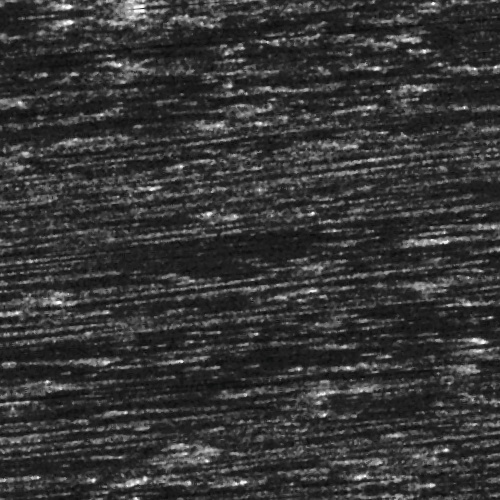object: (86, 201, 295, 216), (363, 234, 500, 249), (210, 389, 355, 400), (340, 247, 465, 256), (394, 377, 487, 384), (425, 363, 488, 368), (430, 353, 483, 358), (262, 375, 315, 380), (462, 79, 493, 84), (486, 357, 500, 366)
shadow: (205, 234, 457, 249), (65, 247, 403, 256), (19, 389, 282, 400), (13, 201, 190, 216), (346, 126, 500, 141), (185, 377, 440, 384), (336, 224, 500, 231), (384, 256, 500, 265), (370, 181, 500, 188), (113, 375, 288, 380), (372, 363, 456, 368), (372, 353, 456, 358), (398, 79, 477, 84), (465, 357, 500, 366)
